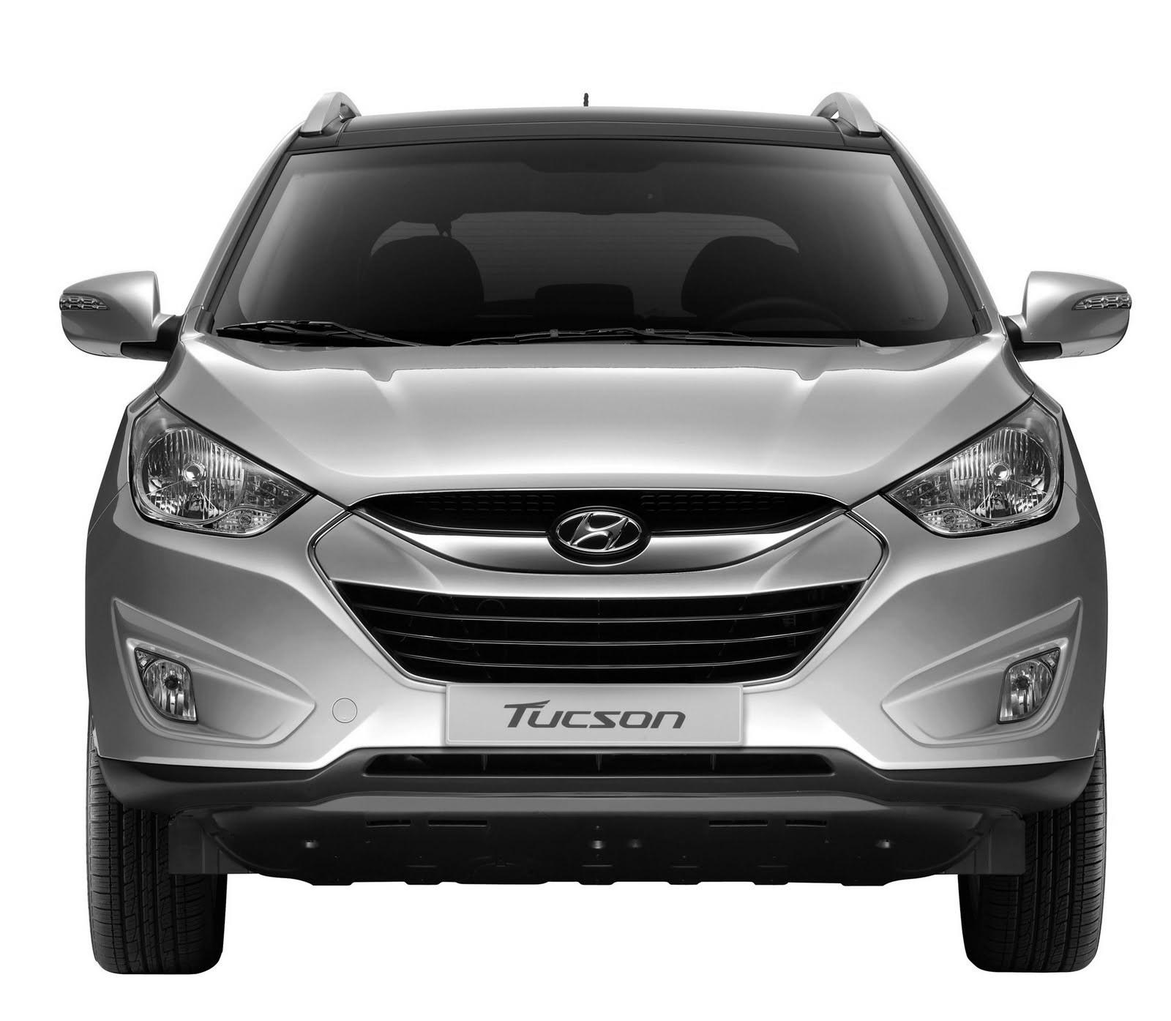car: (59, 93, 1126, 984)
